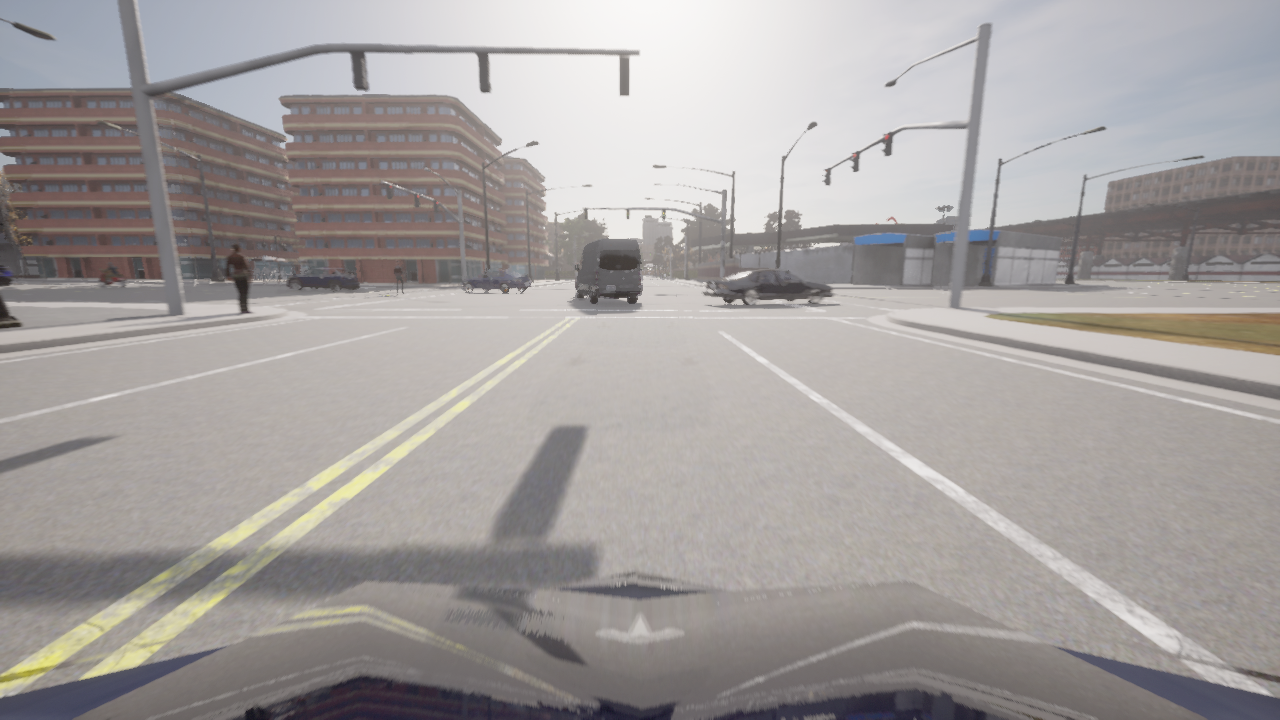cyclist: (0, 569, 1279, 719), (701, 269, 834, 305), (573, 239, 641, 302), (462, 269, 531, 293), (287, 268, 358, 291), (99, 268, 126, 287)
pedestrian: (224, 243, 254, 313), (393, 260, 405, 294)
